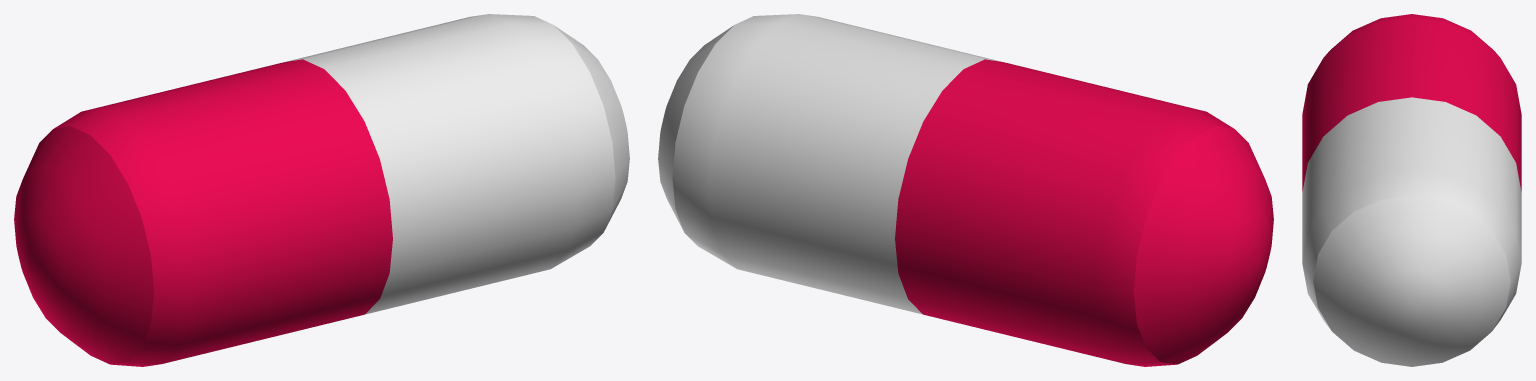
Rendered from ANTIBIOTIC2.fbx.
3 renders of one model, left to right at view 1: azimuth 30°, elevation 25°; view 2: azimuth 150°, elevation 25°; view 3: azimuth 270°, elevation 25°, orthographic. The views are drawn at different scales.
Parts seen in each view (by area): view 1: pCylinder4; view 2: pCylinder4; view 3: pCylinder4.
Boxes of the visible parts, x1,y1,x2,y2 form: pCylinder4: (14, 14, 629, 366); pCylinder4: (658, 14, 1273, 366); pCylinder4: (1302, 14, 1521, 366).
Size of the model in its own units: 5.35 by 2.09 by 2.18.
